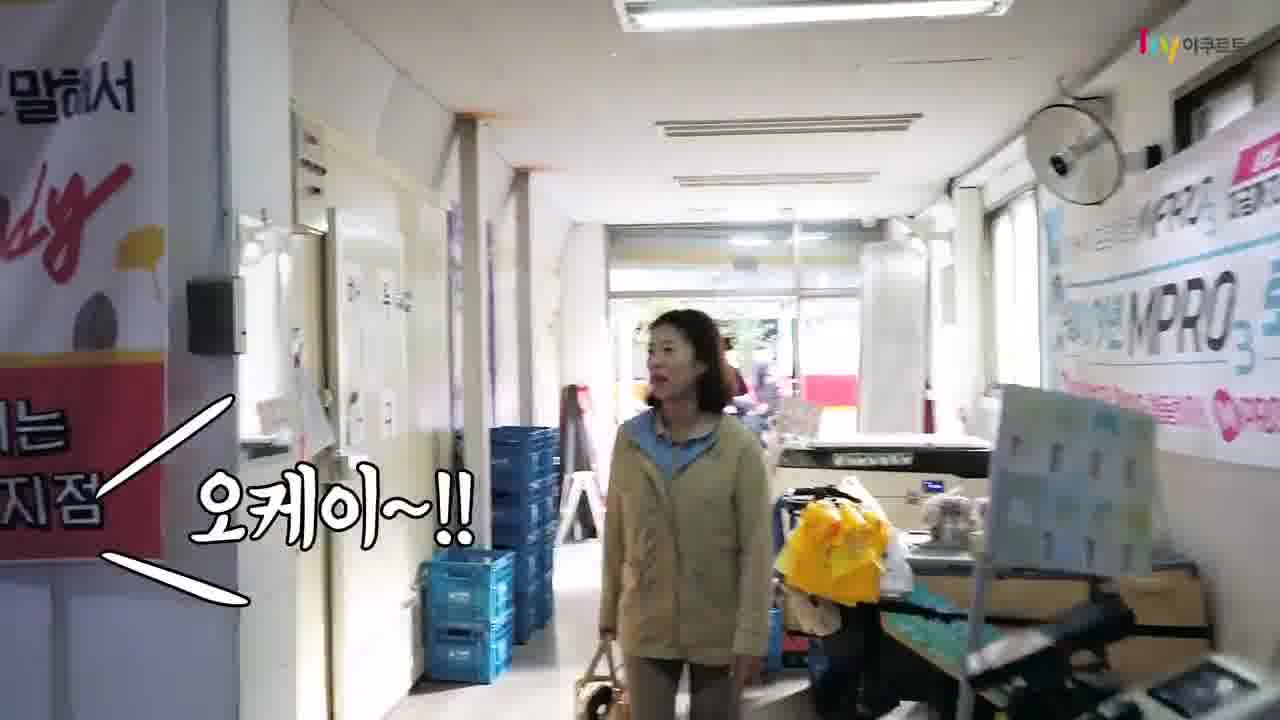Yakurut: (571, 286, 799, 720)
